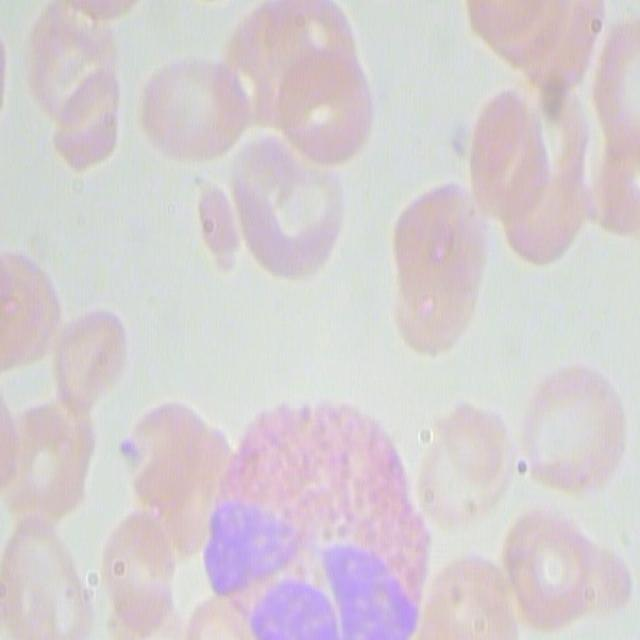RBC: (220, 0, 375, 170), (474, 75, 596, 262), (223, 100, 344, 284), (16, 0, 125, 179), (505, 354, 625, 503), (389, 177, 486, 356), (122, 395, 230, 537), (498, 502, 612, 634), (0, 349, 88, 520), (410, 396, 511, 536), (135, 54, 254, 167), (499, 3, 608, 117), (1, 518, 96, 638), (100, 512, 177, 637), (0, 239, 62, 379), (48, 299, 128, 407), (592, 9, 640, 156)
WBC: (205, 384, 423, 640)
